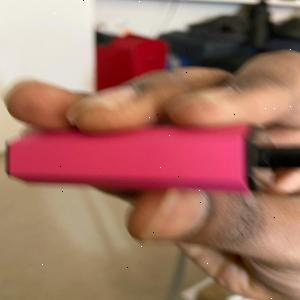Blume-E-Ciggirate: (0, 121, 300, 197)
